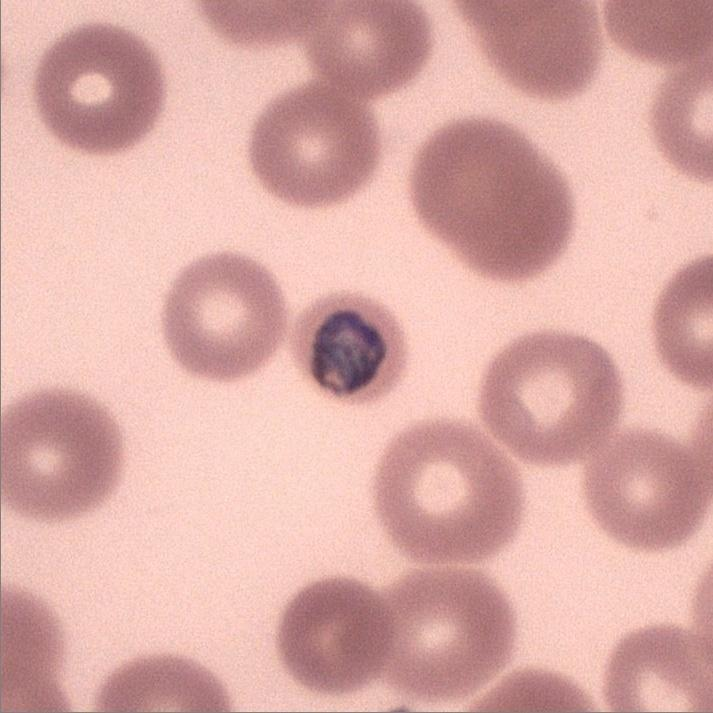Infected: (286, 287, 407, 403)
Uninfected: (414, 115, 572, 286), (372, 417, 524, 563), (480, 333, 621, 475), (32, 15, 168, 157), (380, 567, 512, 703), (0, 387, 121, 527), (254, 75, 379, 207), (454, 0, 608, 106), (164, 255, 285, 379), (276, 575, 393, 698), (588, 431, 699, 554), (301, 0, 428, 95)
